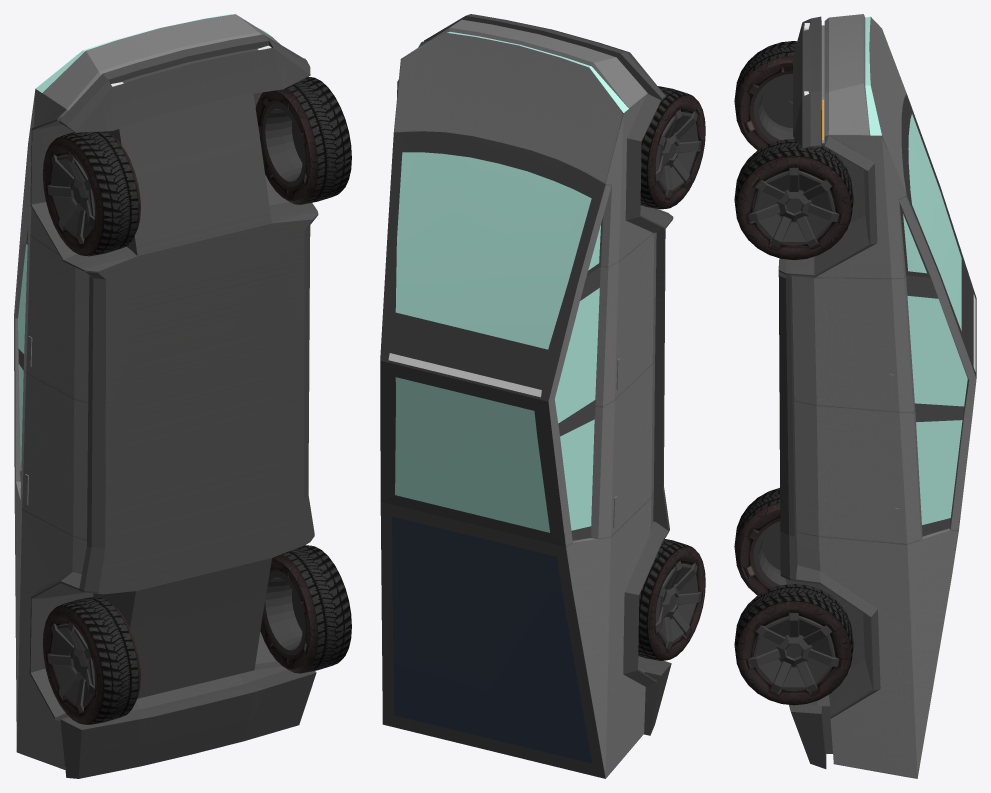
The model's file is cyberTruck_separate_centered_wheels_test#3.fbx.
3 renders of one model, left to right at view 1: azimuth 30°, elevation 25°; view 2: azimuth 150°, elevation 25°; view 3: azimuth 270°, elevation 25°, orthographic. The views are drawn at different scales.
Parts seen in each view (by area): view 1: body, tires.Rear.Right, tires.Front.Right, tires.Front.Left, tires.Rear.Left; view 2: body, tires.Rear.Right, tires.Front.Right; view 3: body, tires.Rear.Left, tires.Front.Left, tires.Front.Right, tires.Rear.Right.
Part boxes in pixels (x1,y1,x2,y2): body: [14, 14, 318, 778]; tires.Rear.Right: [42, 596, 140, 724]; tires.Front.Right: [42, 131, 140, 256]; tires.Front.Left: [255, 76, 351, 204]; tires.Rear.Left: [260, 545, 351, 673]; body: [380, 14, 673, 778]; tires.Rear.Right: [638, 539, 705, 660]; tires.Front.Right: [640, 86, 705, 209]; body: [778, 14, 976, 778]; tires.Rear.Left: [734, 584, 853, 705]; tires.Front.Left: [734, 139, 853, 259]; tires.Front.Right: [734, 41, 797, 150]; tires.Rear.Right: [734, 488, 786, 595].
Size of the model in its own units: 213 by 572 by 184.
6 materials, 6 textured.
